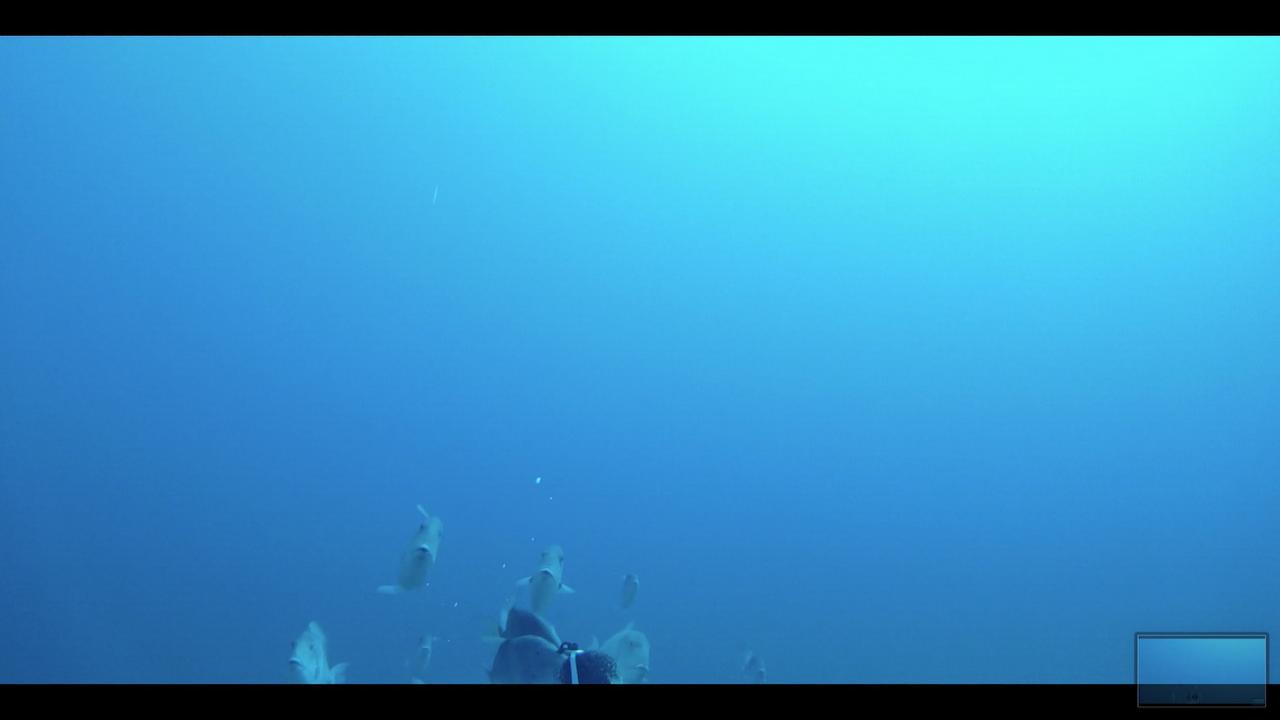balistes: (374, 501, 443, 602), (570, 621, 662, 683), (508, 538, 577, 617), (281, 618, 355, 682), (394, 626, 452, 683), (726, 642, 784, 681), (603, 562, 645, 606)
